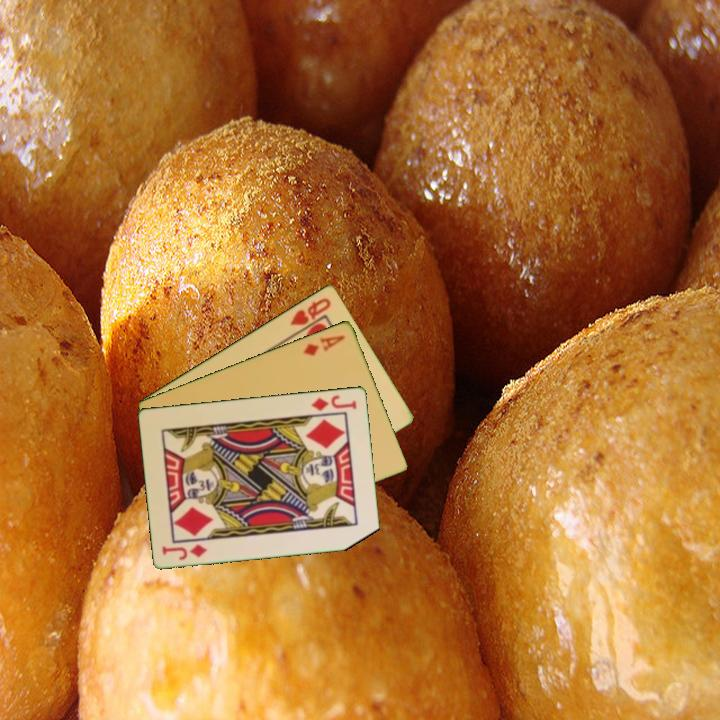Ad: (300, 331, 348, 358)
Jd: (308, 391, 360, 414), (159, 540, 210, 563)
Qh: (286, 294, 334, 328)
